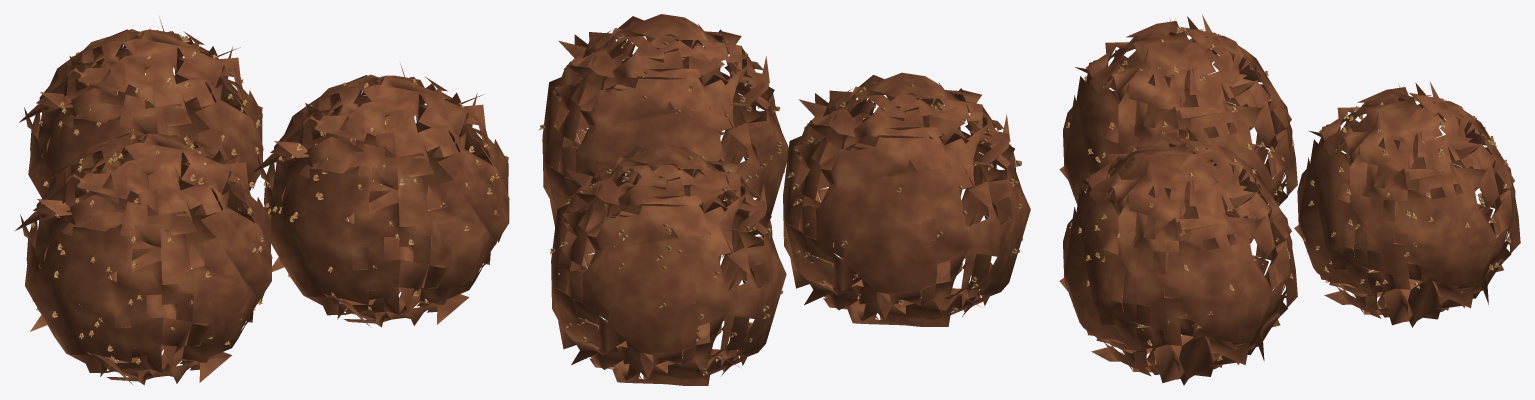
The model's file is dulce_tamarindo.gltf.
3 views of the same model, side by side, from view 1: azimuth 30°, elevation 25°; view 2: azimuth 150°, elevation 25°; view 3: azimuth 270°, elevation 25° (orthographic). The views are drawn at different scales.
Parts seen in each view (by area): view 1: bola_tamarindo_1, bola_tamarindo_2, bola_tamarindo_3, granulos_tamarindo; view 2: bola_tamarindo_1, bola_tamarindo_3, bola_tamarindo_2, granulos_tamarindo; view 3: bola_tamarindo_2, bola_tamarindo_3, bola_tamarindo_1, granulos_tamarindo.
Boxes of the visible parts, x1,y1,x2,y2 form: bola_tamarindo_1: [15, 119, 272, 384]; bola_tamarindo_2: [252, 63, 509, 327]; bola_tamarindo_3: [19, 17, 263, 217]; granulos_tamarindo: [30, 28, 499, 364]; bola_tamarindo_1: [783, 72, 1030, 326]; bola_tamarindo_3: [551, 144, 786, 385]; bola_tamarindo_2: [542, 14, 788, 257]; granulos_tamarindo: [538, 30, 1022, 375]; bola_tamarindo_2: [1059, 126, 1297, 385]; bola_tamarindo_3: [1294, 81, 1520, 327]; bola_tamarindo_1: [1059, 14, 1297, 243]; granulos_tamarindo: [1066, 27, 1510, 360].
Bounding box in the file's own units: 0.0868 × 0.0416 × 0.0787.
Materials: 2 (2 with a texture image).
